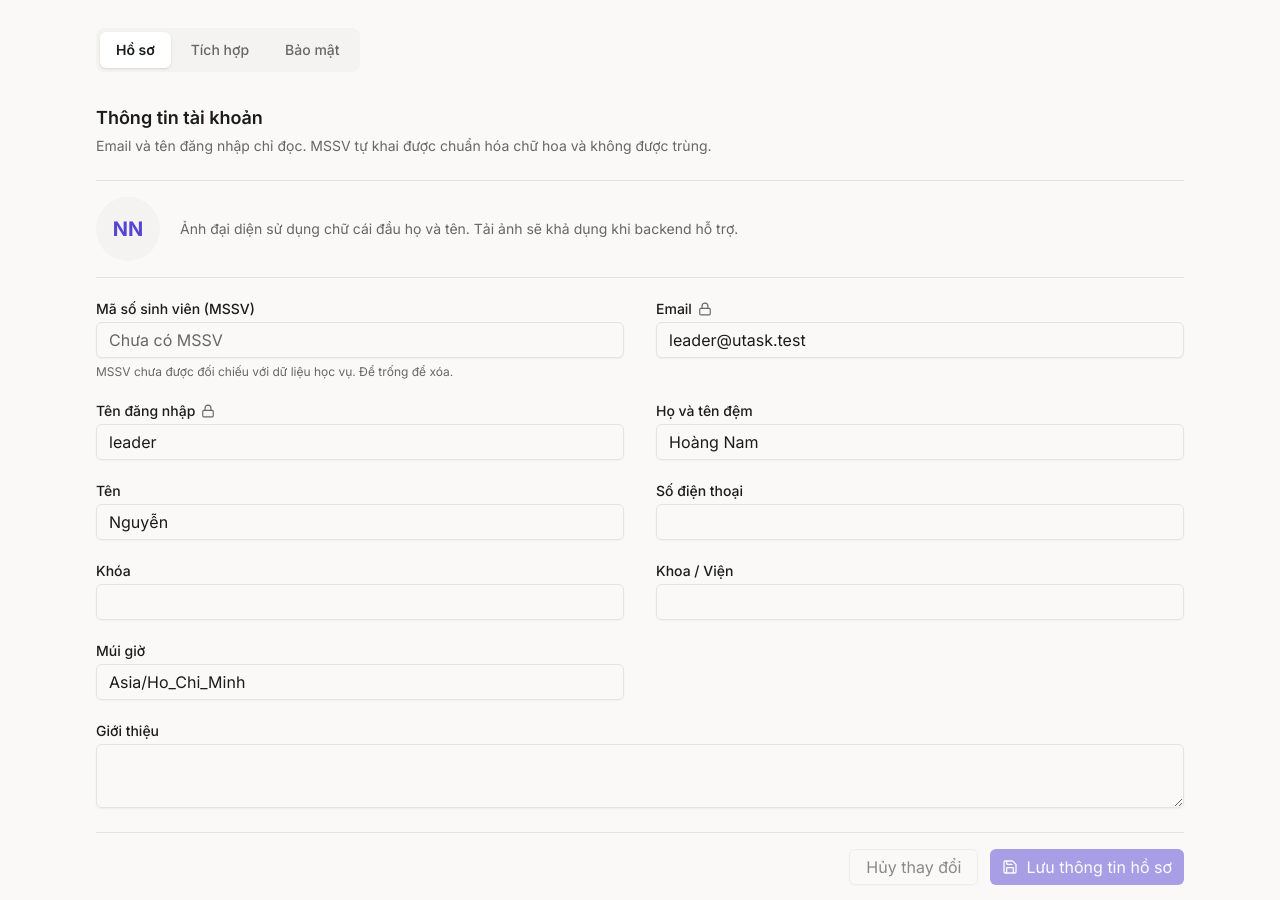
Test: IdentityProfilePage › sends only the changed fields, then shows the server's saved profile
In the field labelled "Số điện thoại": (920, 522) [656,504,1184,540], type "0901234567"
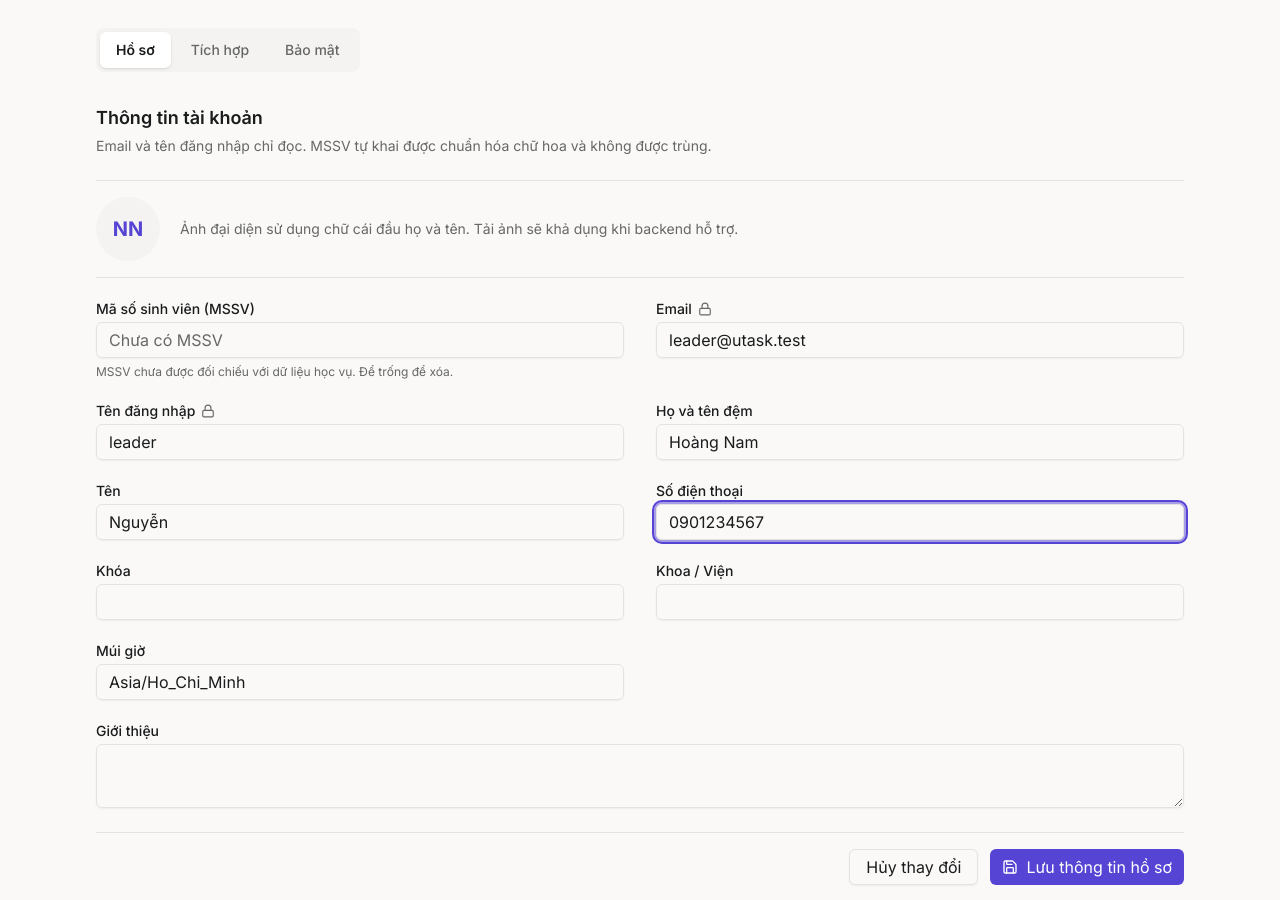
In the field labelled "Mã số sinh viên (MSSV)": (360, 340) [96,322,624,358], type " sv-001 "
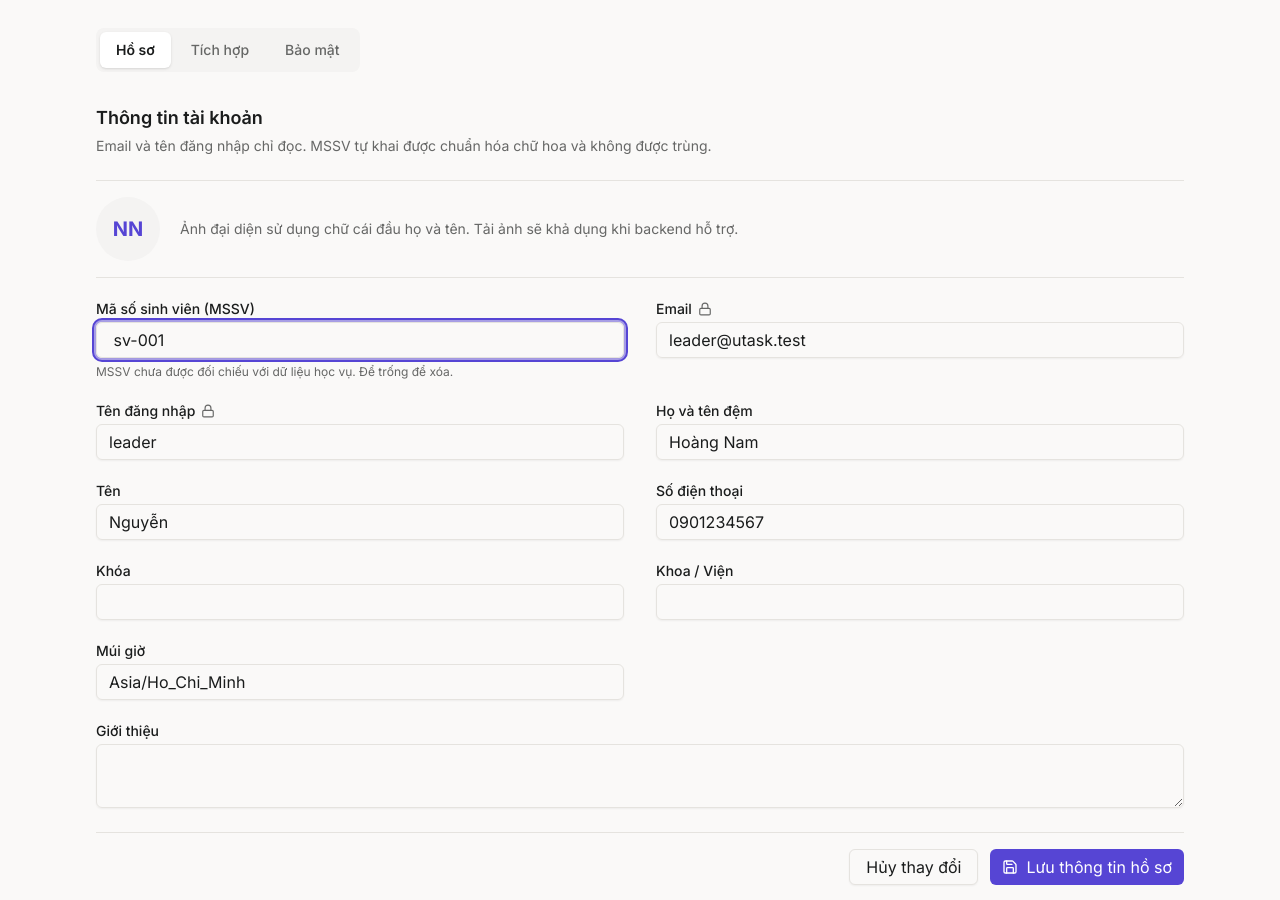
Click the button "Lưu thông tin hồ sơ": (1087, 867) [990,849,1184,885]
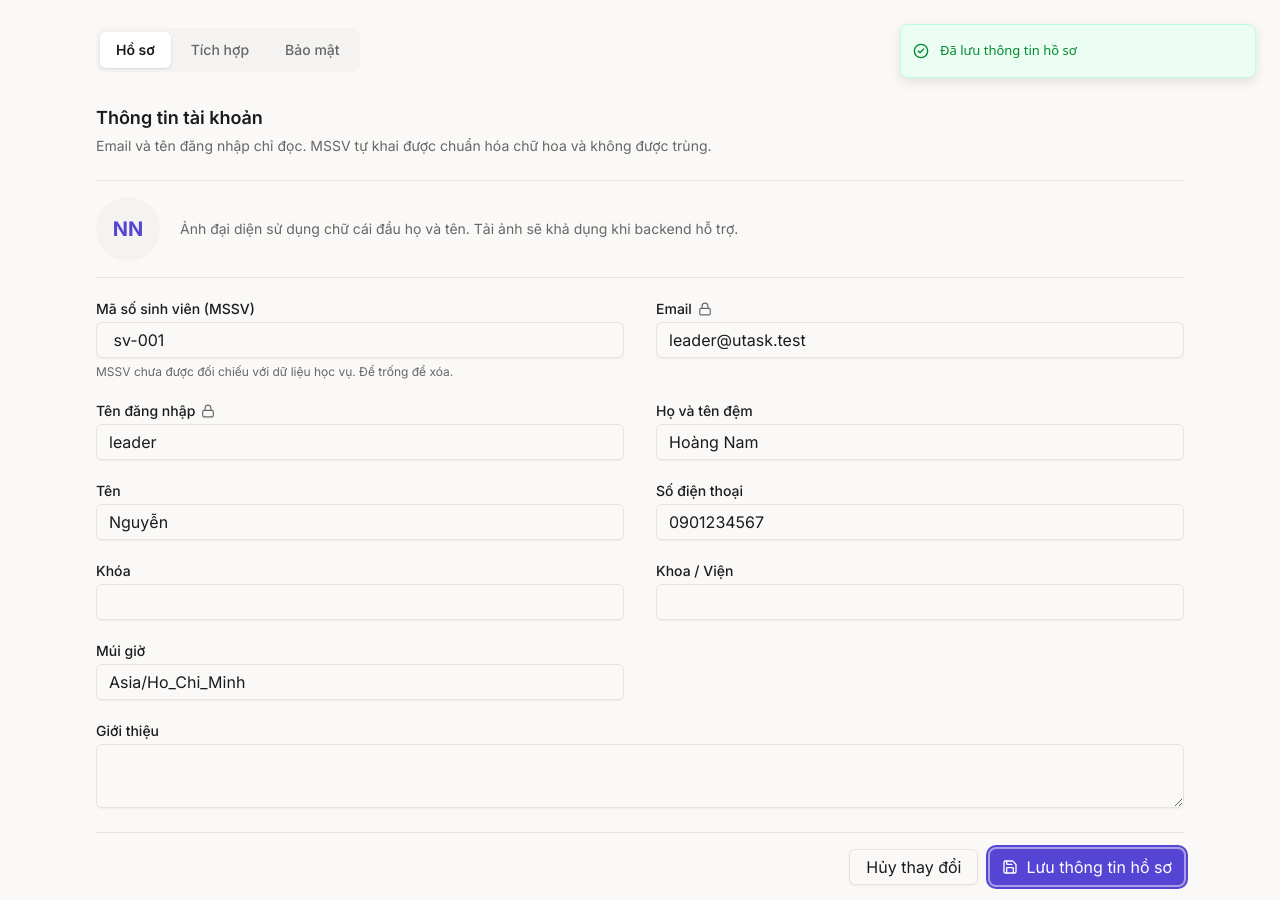
Check: the text "Đã lưu thông tin hồ sơ" is shown, box [940,41,1077,60]
